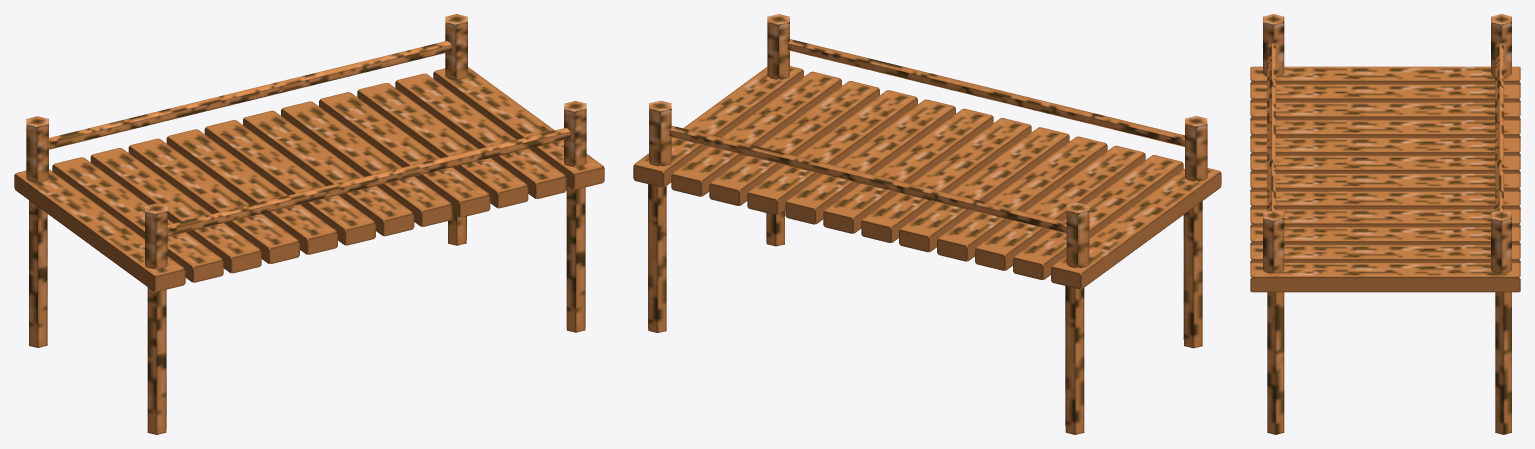
Rendered from bridge.fbx.
3 views of the same model, side by side, from view 1: azimuth 30°, elevation 25°; view 2: azimuth 150°, elevation 25°; view 3: azimuth 270°, elevation 25° (orthographic). The views are drawn at different scales.
Visible parts, largest first — view 1: cuboid_11, cuboid_2, cuboid, cuboid_4, cuboid_8, cuboid_3, cuboid_5, cuboid_7, cuboid_6, cuboid_9, cylinder_2, cylinder_5 (+9 smaller); view 2: cuboid_11, cuboid, cuboid_4, cuboid_3, cuboid_5, cuboid_2, cuboid_7, cuboid_8, cuboid_6, cuboid_9, cylinder_5, cuboid_10 (+10 smaller); view 3: cuboid_1, cuboid_6, cuboid_4, cuboid_10, cuboid_5, cuboid_7, cuboid_8, cuboid_9, cuboid_11, cuboid_3, cuboid, cuboid_2 (+8 smaller).
Part boxes in pixels (x1=…): cuboid_11: x1=14, y1=169, x2=185, y2=291; cuboid_2: x1=357, y1=83, x2=528, y2=208; cuboid: x1=395, y1=73, x2=566, y2=198; cuboid_4: x1=281, y1=101, x2=452, y2=226; cuboid_8: x1=128, y1=138, x2=299, y2=263; cuboid_3: x1=319, y1=92, x2=490, y2=217; cuboid_5: x1=243, y1=110, x2=414, y2=236; cuboid_7: x1=166, y1=129, x2=337, y2=254; cuboid_6: x1=204, y1=120, x2=375, y2=245; cuboid_9: x1=90, y1=148, x2=261, y2=273; cylinder_2: x1=167, y1=128, x2=570, y2=236; cylinder_5: x1=48, y1=41, x2=451, y2=149; cuboid_11: x1=1051, y1=168, x2=1221, y2=289; cuboid: x1=671, y1=71, x2=841, y2=196; cuboid_4: x1=785, y1=99, x2=955, y2=224; cuboid_3: x1=747, y1=90, x2=917, y2=215; cuboid_5: x1=823, y1=108, x2=993, y2=233; cuboid_2: x1=709, y1=81, x2=879, y2=205; cuboid_7: x1=899, y1=127, x2=1069, y2=252; cuboid_8: x1=937, y1=136, x2=1107, y2=261; cuboid_6: x1=861, y1=118, x2=1031, y2=242; cuboid_9: x1=975, y1=145, x2=1145, y2=270; cylinder_5: x1=669, y1=126, x2=1066, y2=233; cuboid_10: x1=1013, y1=155, x2=1183, y2=279; cuboid_1: x1=1250, y1=262, x2=1520, y2=292; cuboid_6: x1=1250, y1=155, x2=1520, y2=174; cuboid_4: x1=1250, y1=191, x2=1520, y2=209; cuboid_10: x1=1250, y1=84, x2=1520, y2=102; cuboid_5: x1=1250, y1=173, x2=1520, y2=191; cuboid_7: x1=1250, y1=138, x2=1520, y2=156; cuboid_8: x1=1250, y1=120, x2=1520, y2=138; cuboid_9: x1=1250, y1=102, x2=1520, y2=120; cuboid_11: x1=1250, y1=66, x2=1520, y2=84; cuboid_3: x1=1250, y1=209, x2=1520, y2=227; cuboid: x1=1250, y1=245, x2=1520, y2=263; cuboid_2: x1=1250, y1=227, x2=1520, y2=245.
Size of the model in its own units: 369 by 175 by 200.
Materials: 1 (1 with a texture image).
